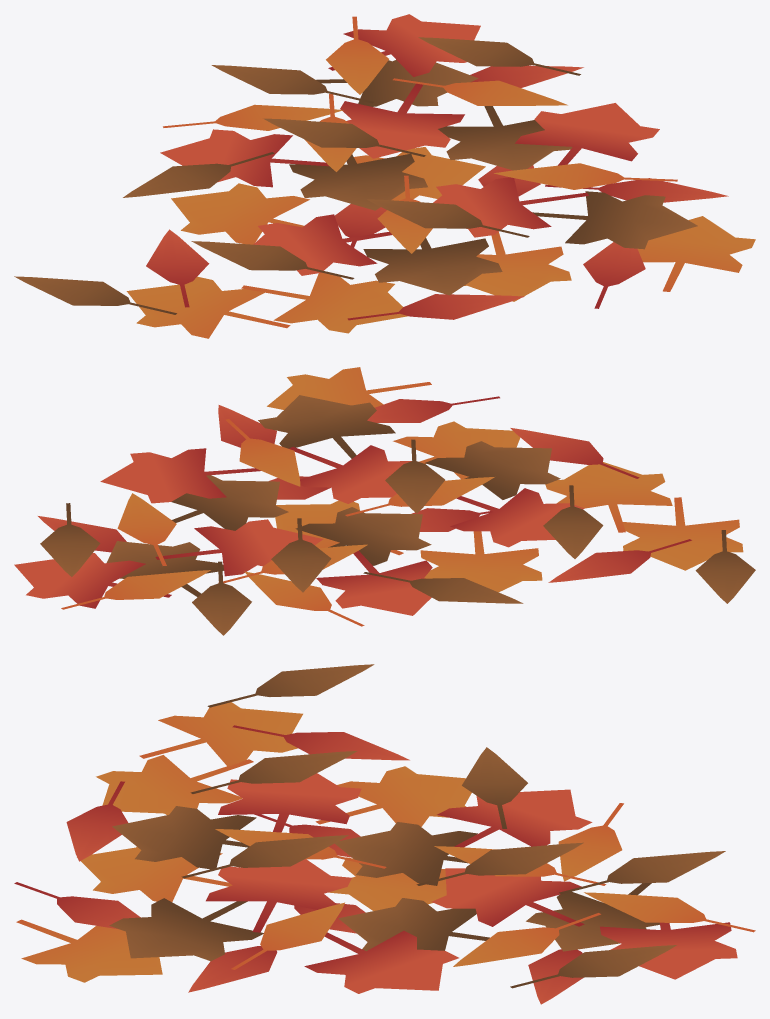
File: farmpack2023autumn_leaves.fbx
The picture shows the model from 3 angles, top to bottom: view 1: azimuth 30°, elevation 25°; view 2: azimuth 150°, elevation 25°; view 3: azimuth 270°, elevation 25°; orthographic projection. The views are drawn at different scales.
Visible parts, largest first — view 1: Grid.020; view 2: Grid.020; view 3: Grid.020.
Part boxes in pixels (x1,y1,x2,y2): Grid.020: [14, 14, 755, 338]; Grid.020: [14, 367, 755, 635]; Grid.020: [14, 664, 755, 1004].
Size of the model in its own units: 1.35 by 1.43 by 0.0256.
